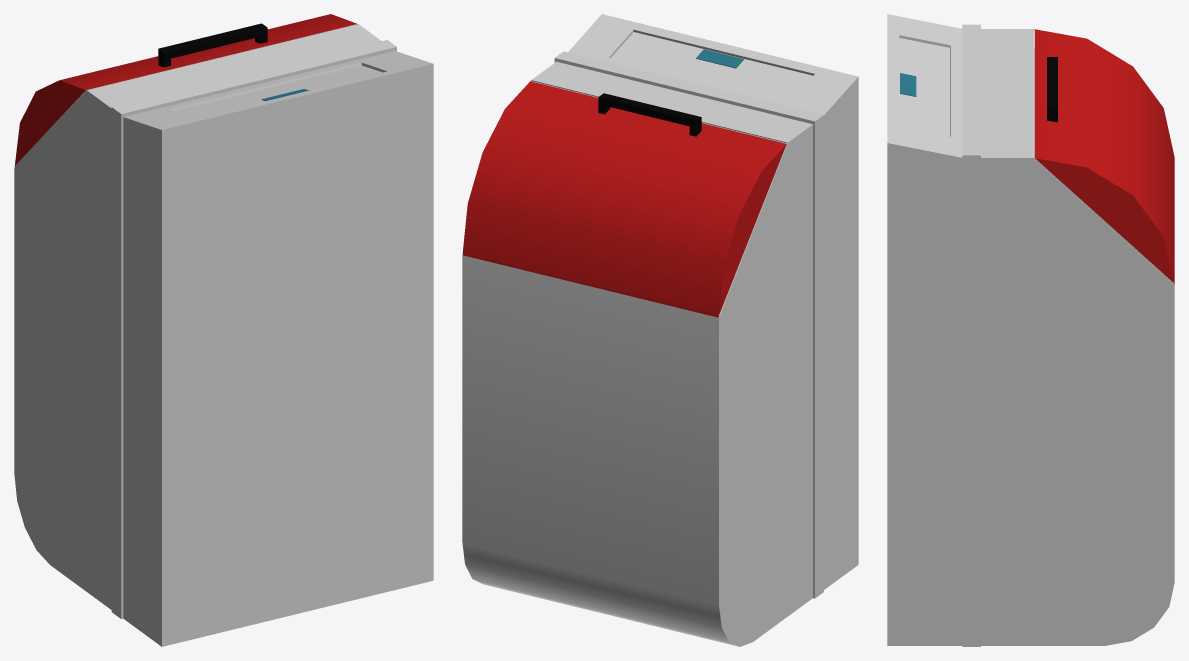
3 views of the same model, side by side, from view 1: azimuth 30°, elevation 25°; view 2: azimuth 150°, elevation 25°; view 3: azimuth 270°, elevation 25° (orthographic). The views are drawn at different scales.
Visible parts, largest first — view 1: Cube; view 2: Cube; view 3: Cube.
Part boxes in pixels (x1,y1,x2,y2): Cube: (14, 14, 433, 646); Cube: (462, 14, 858, 646); Cube: (887, 14, 1174, 646).
Size of the model in its own units: 34.51 by 61.83 by 32.
